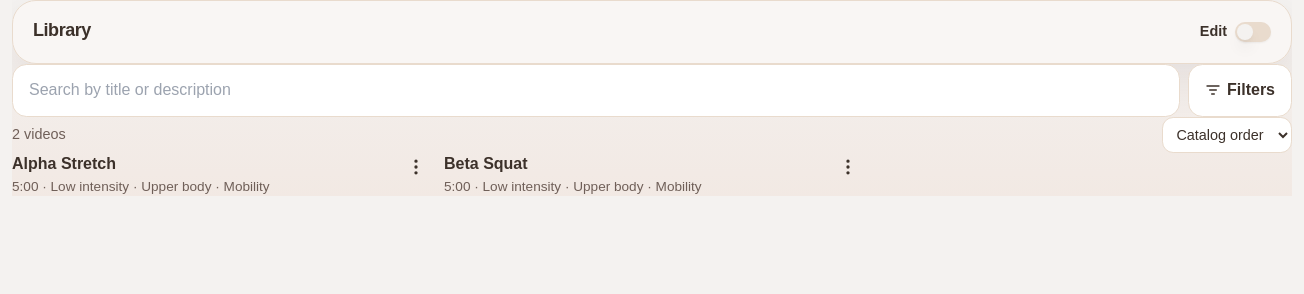
Scenario: hides add, edit and delete until the edit switch is turned on
Expected: the heading "Alpha Stretch" is shown, [12,155,116,172]
Expected: the button "add exercise" is not shown
Step 1. Click the switch named "edit" → (1253, 32), box [1235,22,1271,42]
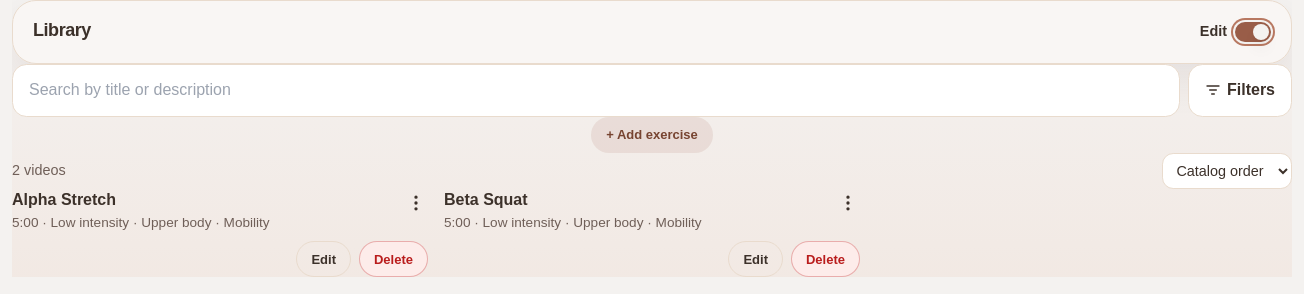
Expected: the button "+ Add exercise" is shown, [591,117,713,153]
Expected: the button with aria-label "edit alpha stretch" is shown, [296,241,351,277]
Expected: the button with aria-label "delete beta squat" is shown, [791,241,860,277]
Step 2. Click the switch named "edit" → (1253, 32), box [1235,22,1271,42]
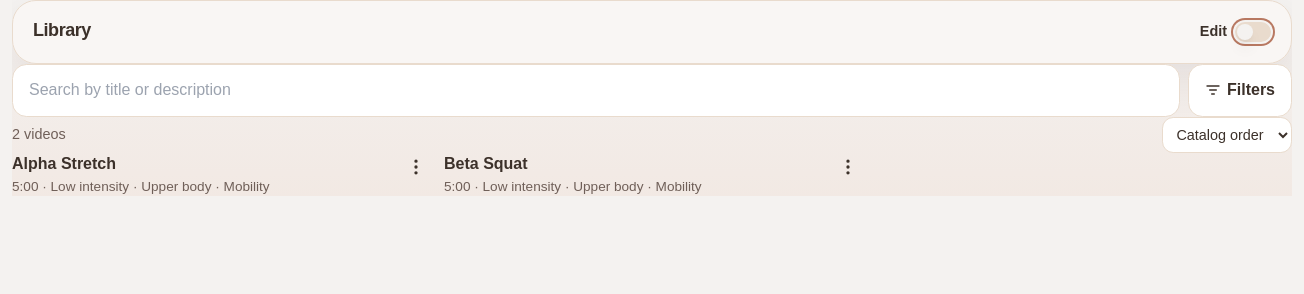
Expected: the button "Add exercise" is gone
